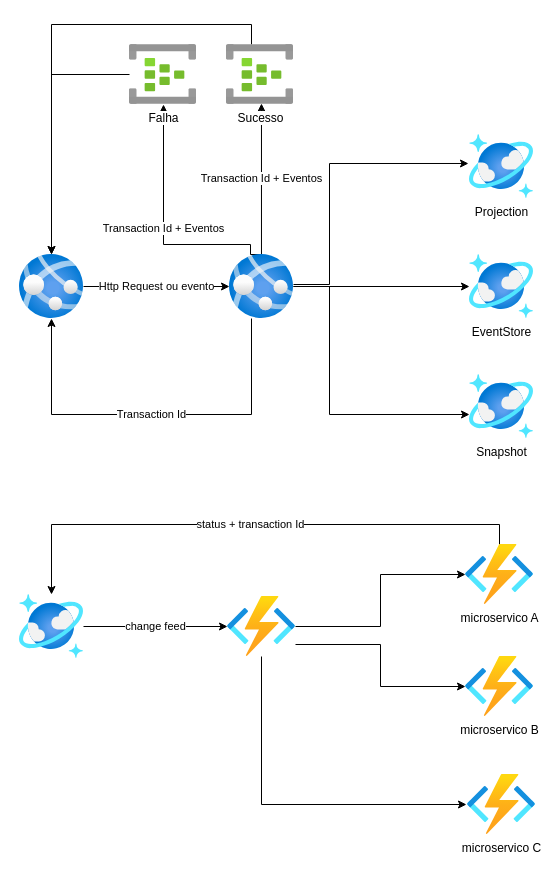
This 558x873 diagram has some shape labels left out. Here are the shapes that lost their labels. From the top down, the box of each, then its label:
(19, 254, 83, 318): Api Vendas
(229, 254, 293, 318): Microservico
(19, 594, 83, 658): Transactions
(227, 596, 295, 656): orquestrador
